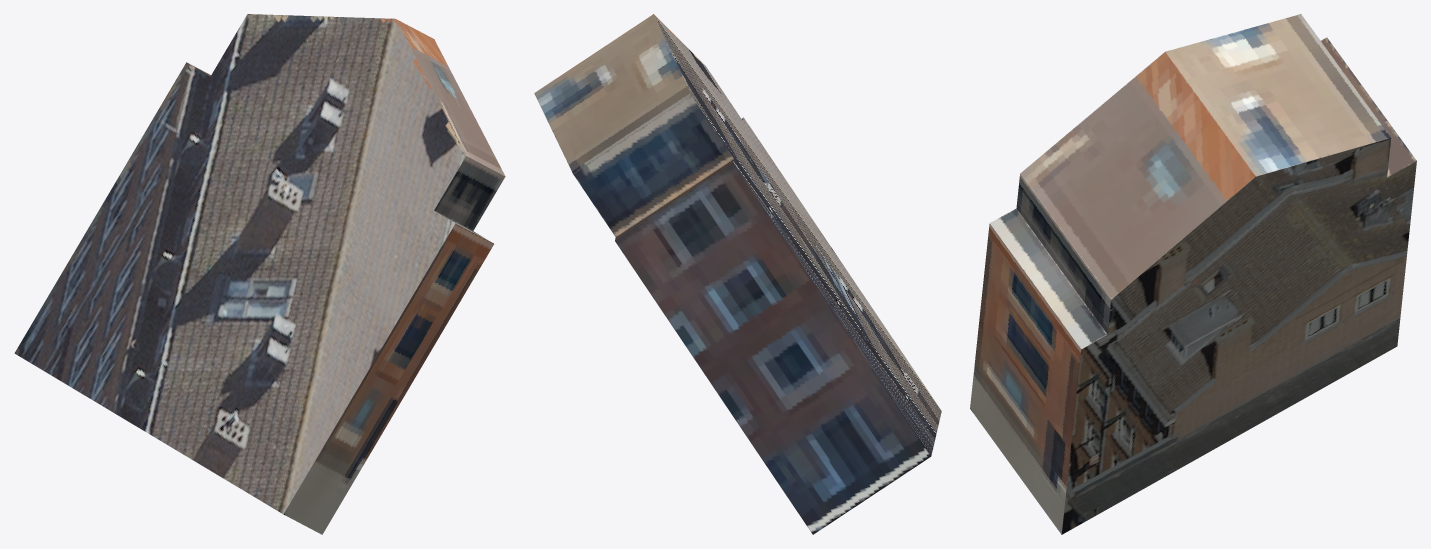
3 views of the same model, side by side, from view 1: azimuth 30°, elevation 25°; view 2: azimuth 150°, elevation 25°; view 3: azimuth 270°, elevation 25° (orthographic). The views are drawn at different scales.
Parts seen in each view (by area): view 1: BAG_0599100000650057; view 2: BAG_0599100000650057 (×2); view 3: BAG_0599100000650057 (×2).
Boxes of the visible parts, x1,y1,x2,y2 form: BAG_0599100000650057: (14, 14, 505, 534); BAG_0599100000650057 (×2): (534, 14, 941, 534); BAG_0599100000650057 (×2): (970, 14, 1416, 534).
Bounding box in the file's own units: 17.38 × 18.49 × 13.57.
1 material, 1 textured.
